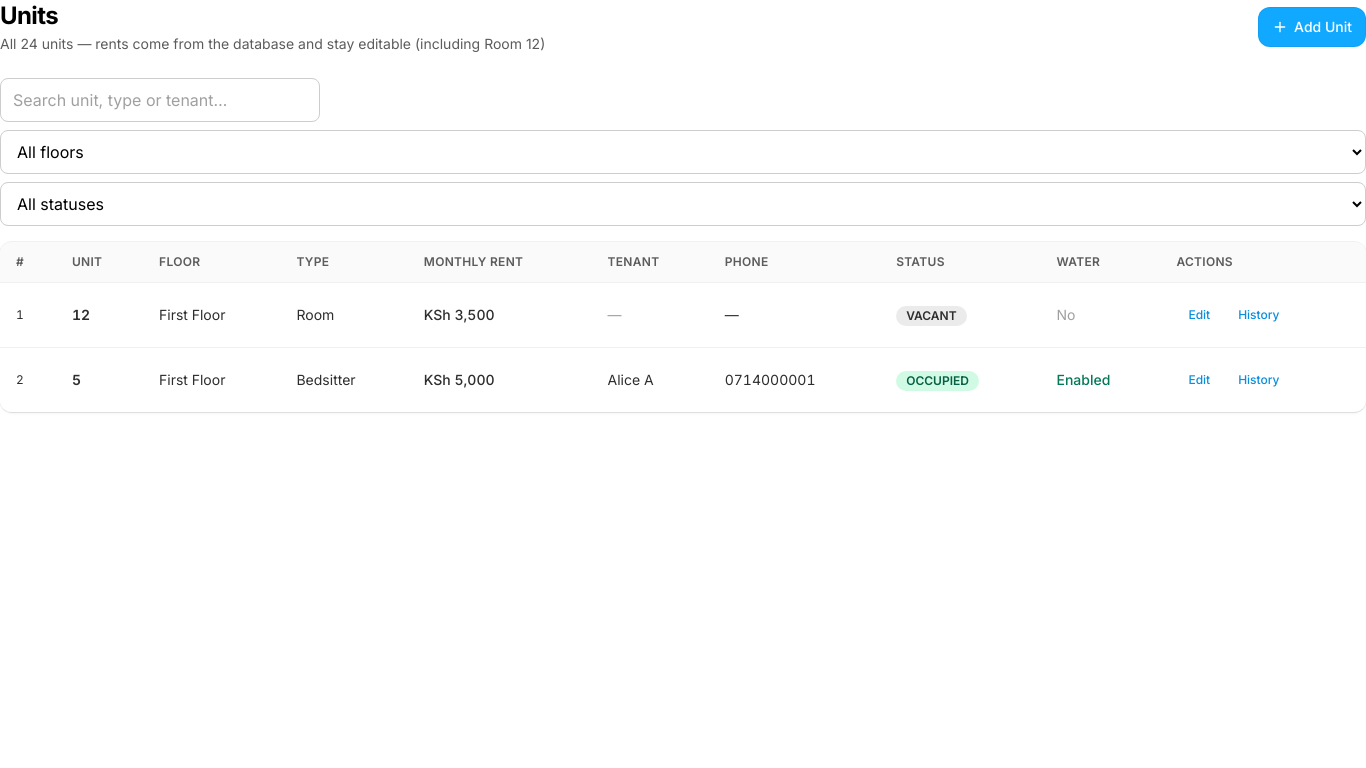
Test case: Units (edit a unit) › rejects a half-typed rent client-side instead of sending null
expect the text "12" is shown: met, box [56, 282, 143, 348]
Click the button "Edit" in the row of "KSh 3,500" at (1199, 315), box [1176, 295, 1222, 335]
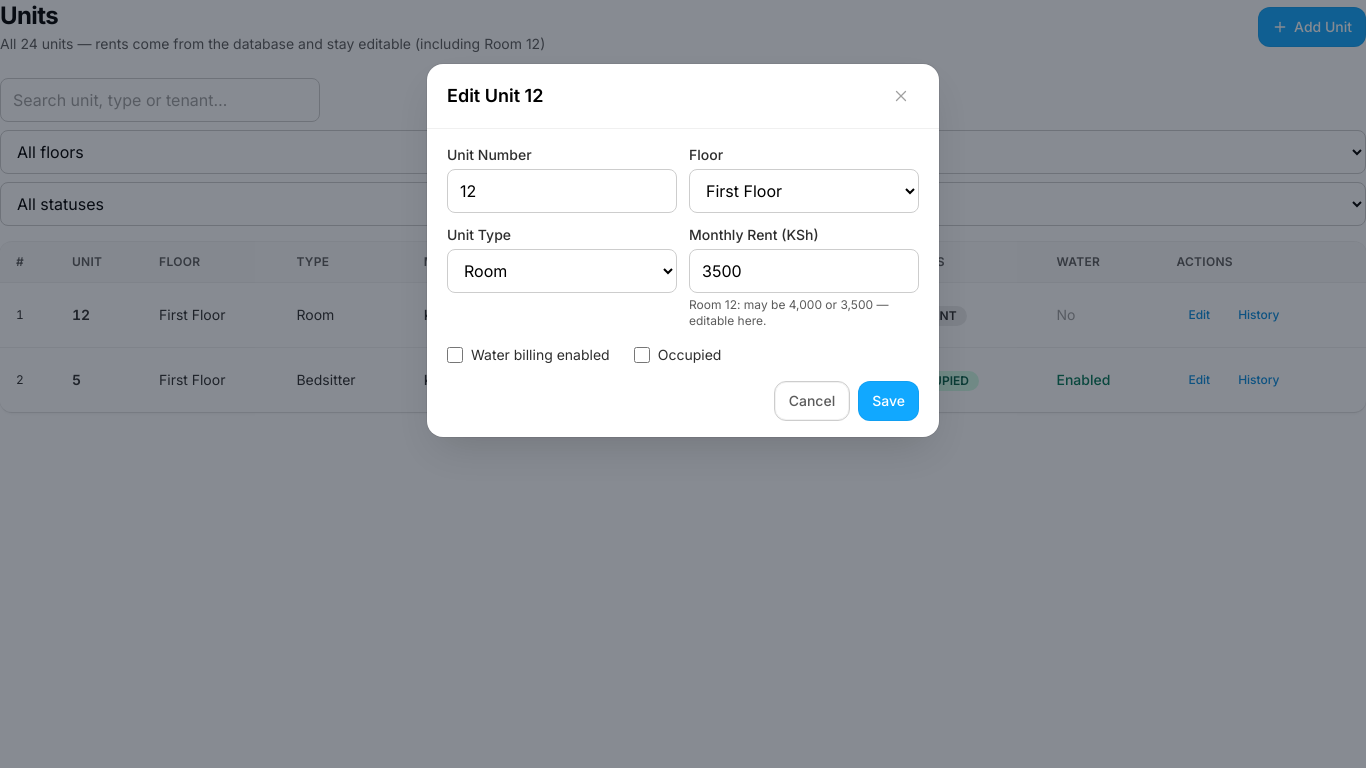
expect the heading "Edit Unit 12" is shown: met, box [447, 82, 543, 110]
Replace the text in the number field labelled "Monthly Rent" with "-" at (804, 271), box [689, 249, 919, 293]
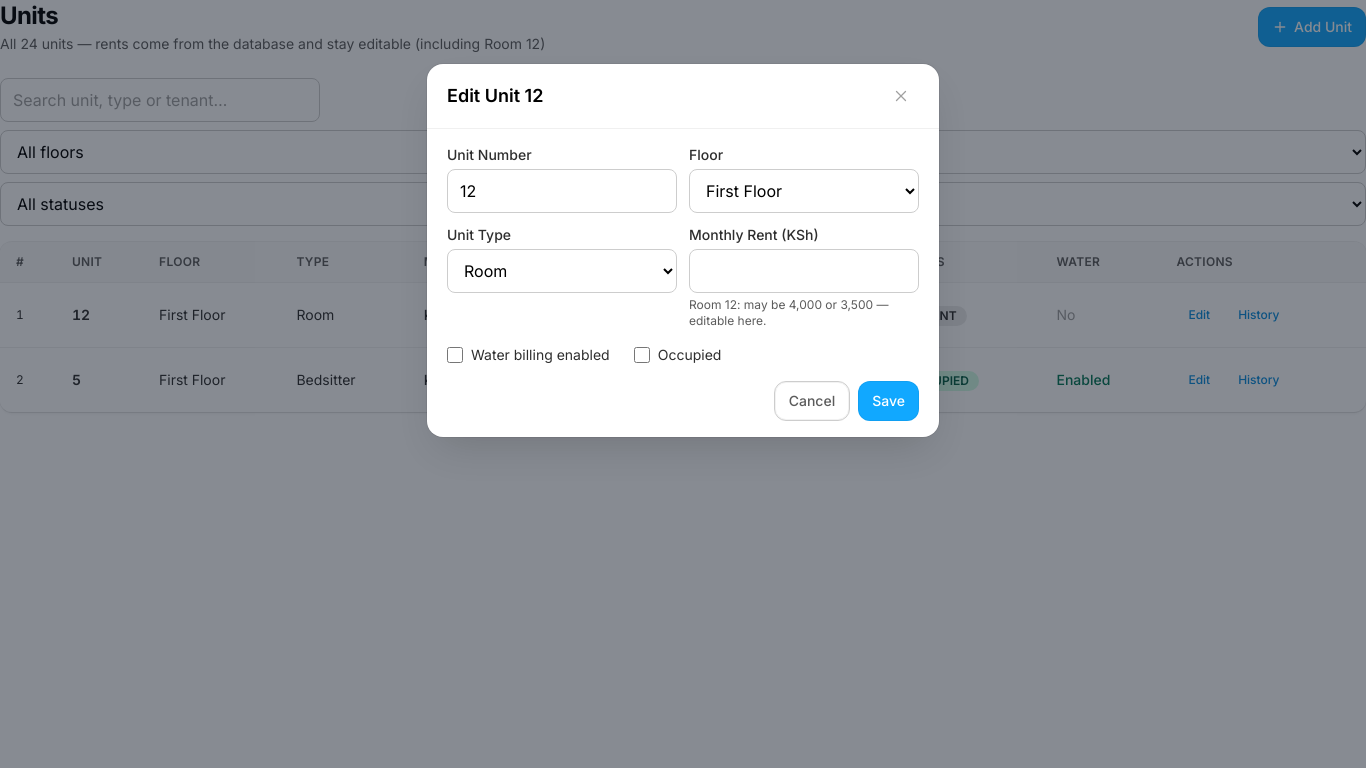
Click the button "Save" at (889, 401), box [858, 381, 919, 421]
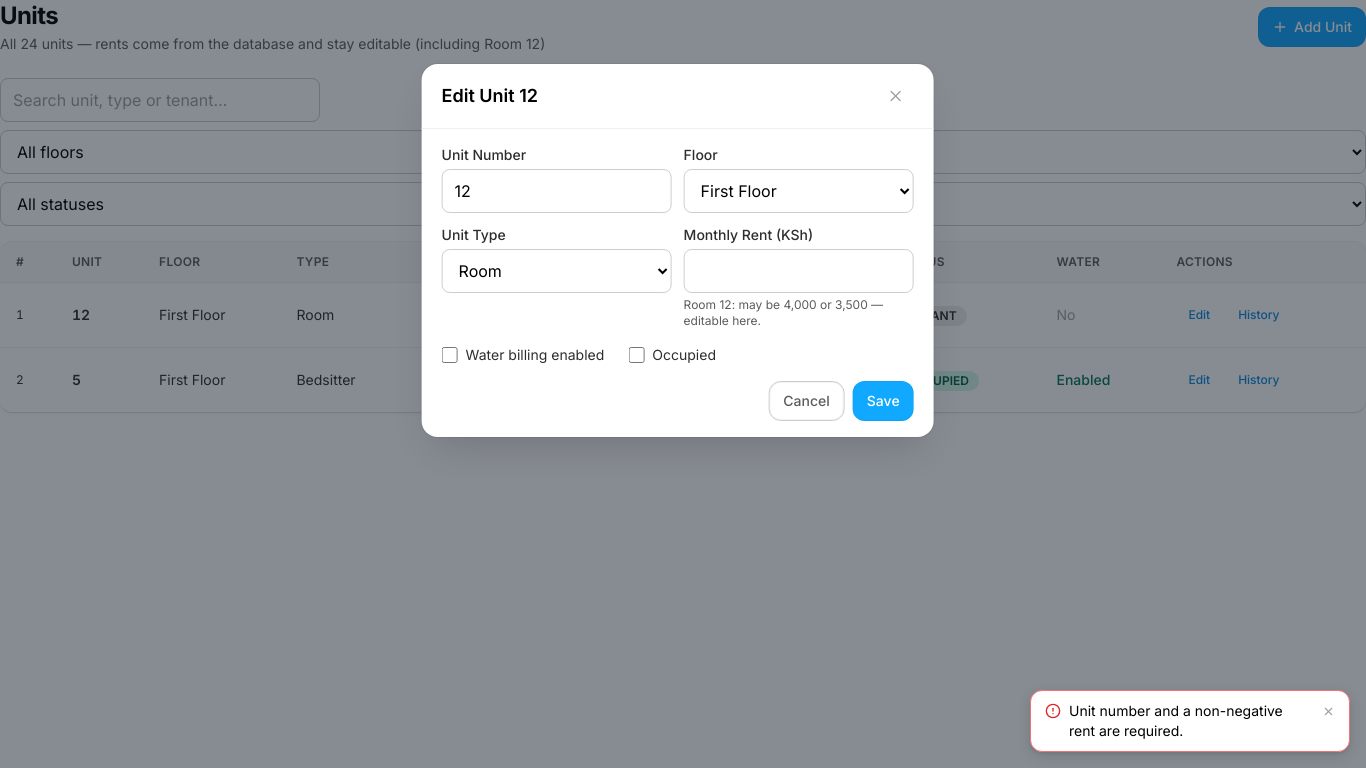
expect the text "Unit number and a non-negative rent are required." is shown: met, box [1069, 701, 1310, 741]
